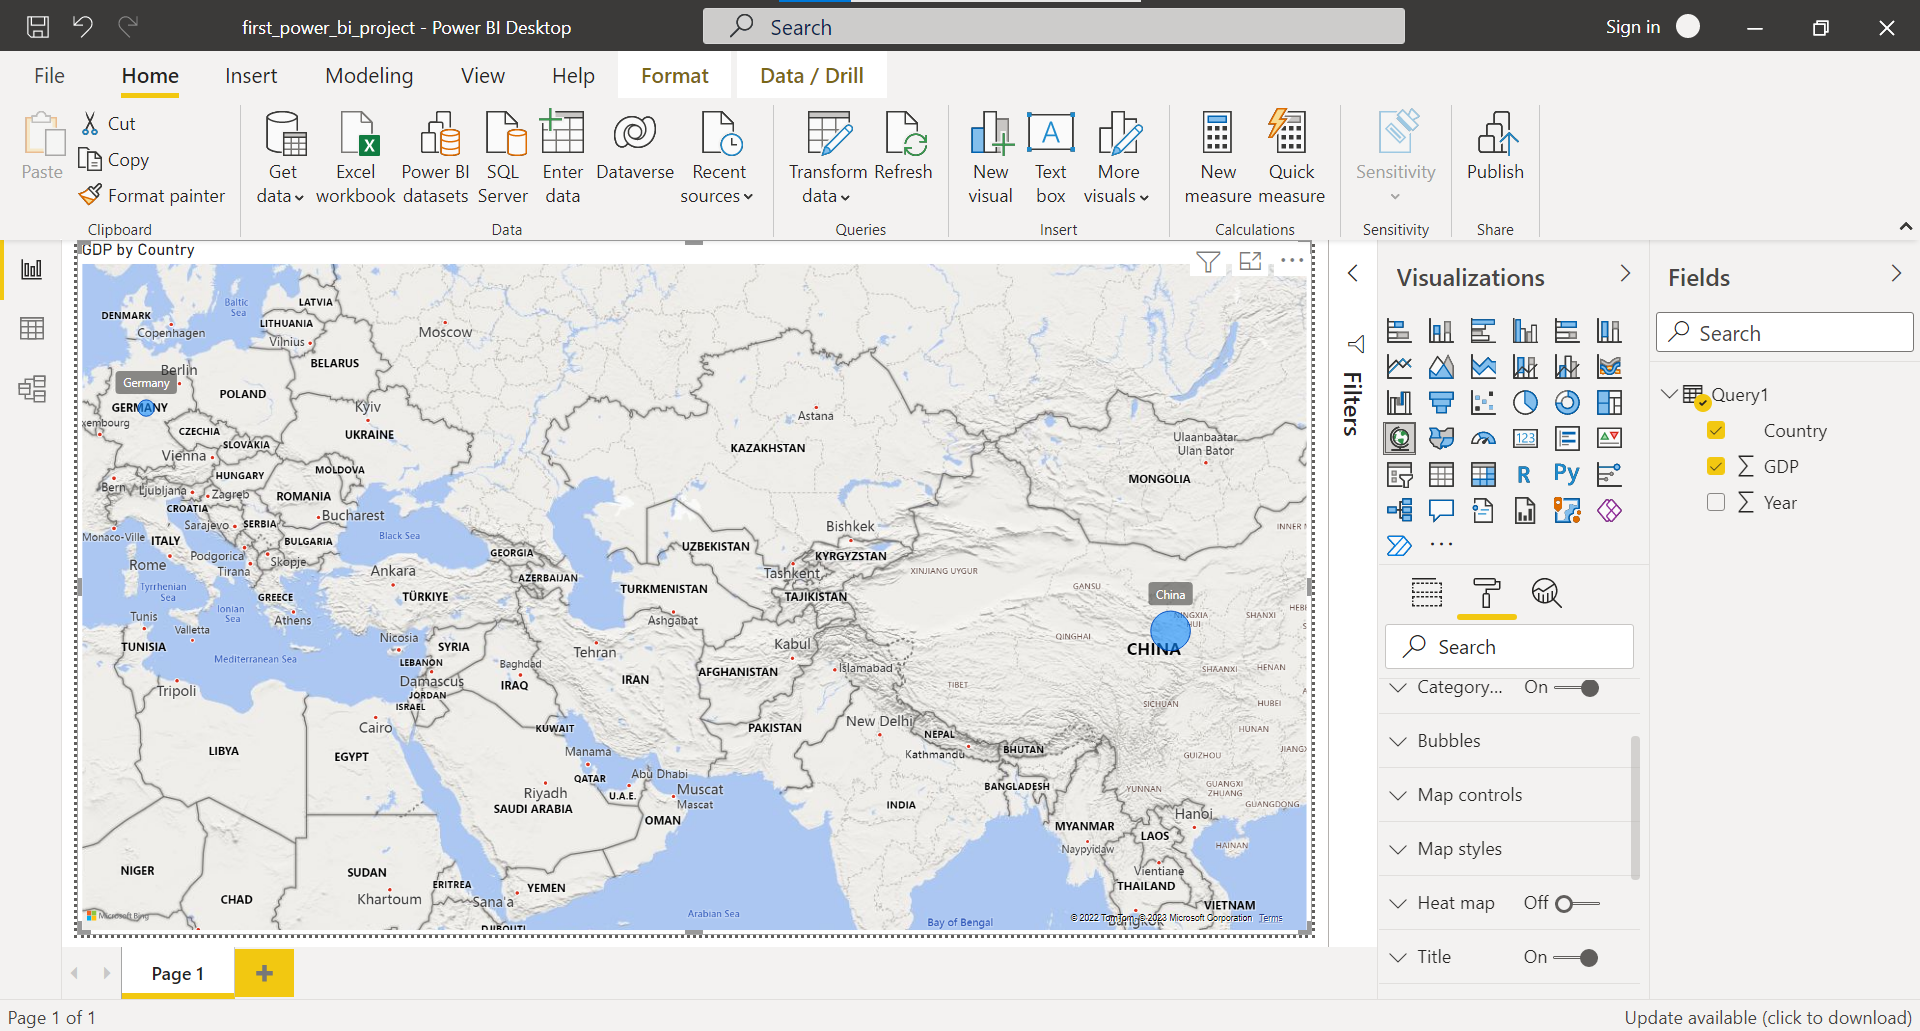

The page's visual inventory and layout, read from the dashboard file:
{"tool":"powerbi","page":{"name":"Page 1","canvas":[1280,720],"ordinal":0},"visuals":[{"type":"map","fields":{"Category":["Query1.Country"],"Size":["Sum(Query1.GDP)"]},"box":[0,0,1279.8,720],"z":0}]}

Visuals, with their boxes on the page's 1280x720 design canvas (x1, y1, x2, y2). These are canvas units, not pixel positions in the 1920x1031 screenshot, which may show the page scaled, cropped or inside an application window:
map - Query1.Country x Sum(Query1.GDP): x1=0 y1=0 x2=1280 y2=720
